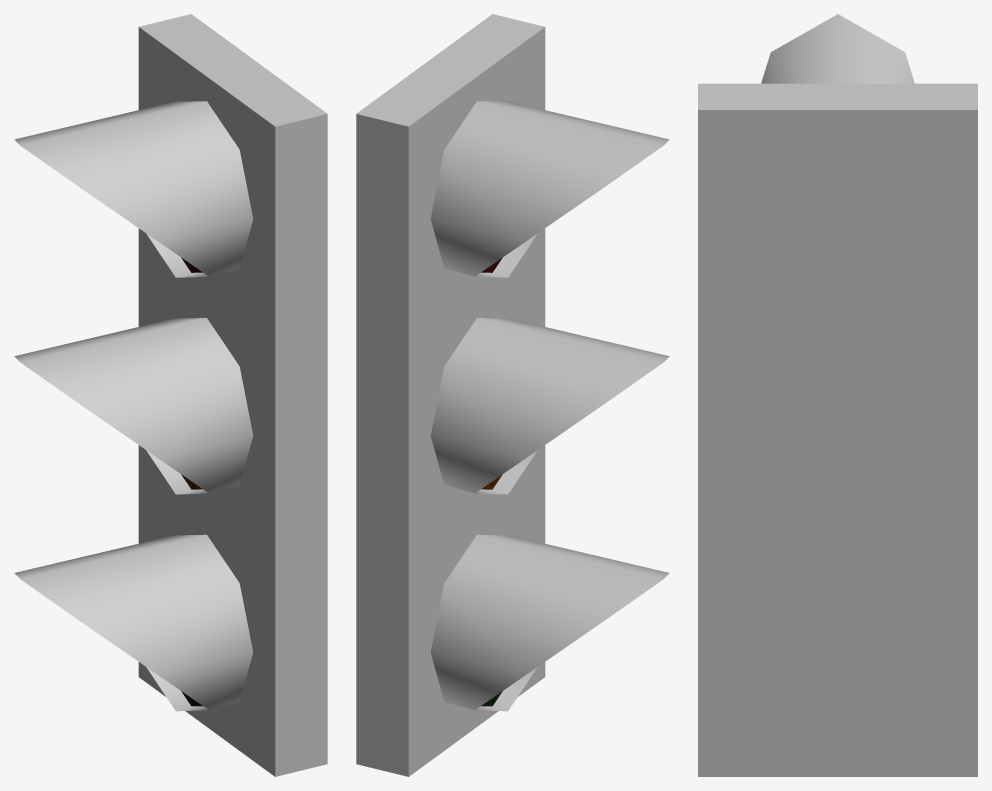
Rendered from trafficLight01.fbx.
The picture shows the model from 3 angles, left to right: view 1: azimuth 30°, elevation 25°; view 2: azimuth 150°, elevation 25°; view 3: azimuth 270°, elevation 25°; orthographic projection. The views are drawn at different scales.
Parts seen in each view (by area): view 1: trafficLight01; view 2: trafficLight01; view 3: trafficLight01.
Part boxes in pixels (x1=…): trafficLight01: x1=14, y1=14, x2=327, y2=776; trafficLight01: x1=356, y1=14, x2=669, y2=776; trafficLight01: x1=698, y1=14, x2=977, y2=776.
Bounding box in the file's own units: 50.07 × 130 × 49.44.
